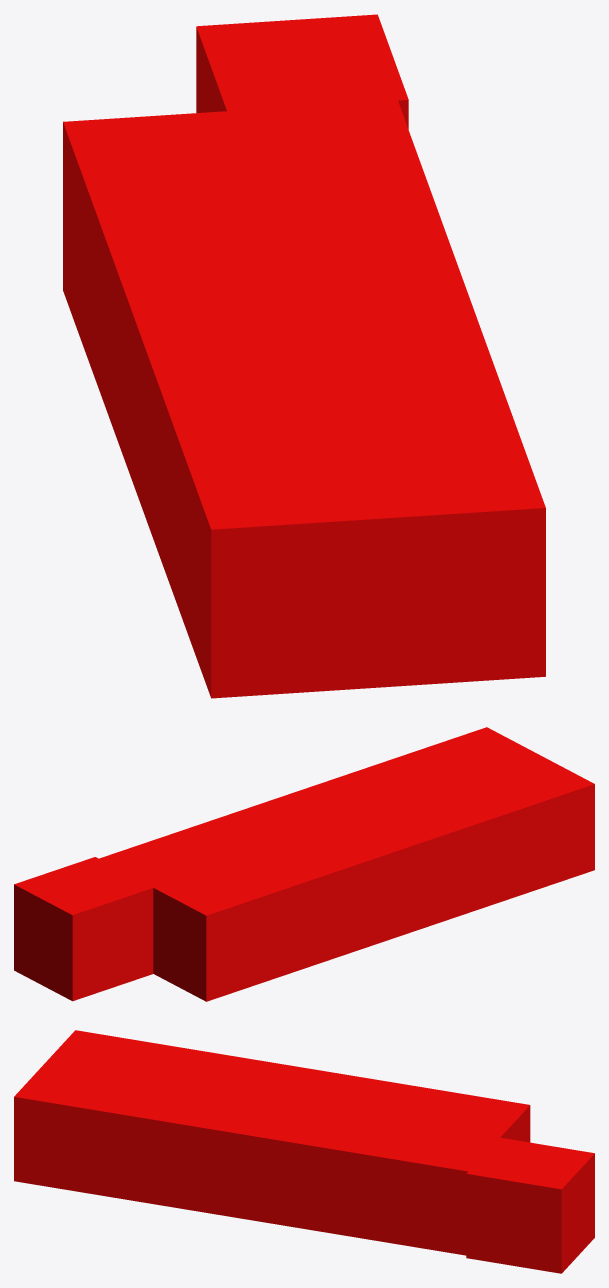
File: BosquesdelasVictorias_Dummys_INV_Mz5.fbx
3 renders of one model, top to bottom at view 1: azimuth 30°, elevation 25°; view 2: azimuth 150°, elevation 25°; view 3: azimuth 270°, elevation 25°, orthographic. The views are drawn at different scales.
Visible parts, largest first — view 1: Cube__6_, Cube__7_; view 2: Cube__6_, Cube__7_; view 3: Cube__6_, Cube__7_.
Part boxes in pixels (left/top/right/bottom): Cube__6_: left=63, top=100, right=545, bottom=698; Cube__7_: left=196, top=14, right=408, bottom=129; Cube__6_: left=98, top=727, right=594, bottom=1001; Cube__7_: left=14, top=857, right=153, bottom=1001; Cube__6_: left=14, top=1030, right=530, bottom=1255; Cube__7_: left=466, top=1137, right=594, bottom=1273.
Bounding box in the file's own units: 3901 × 964 × 6013.
